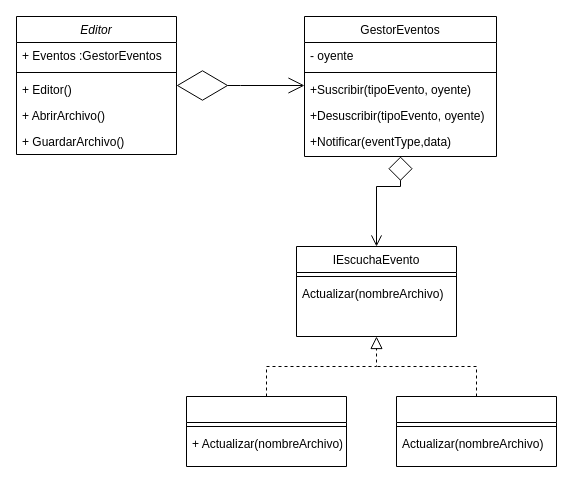
Some shapes in this 573 by 483 pixel diagram are drawn without their labels. Here are the shapes that lost their labels. From the top down, the box of each, then its label:
(186, 396, 346, 466): NotificacionCorreo
(396, 396, 556, 466): RegistroEventos
